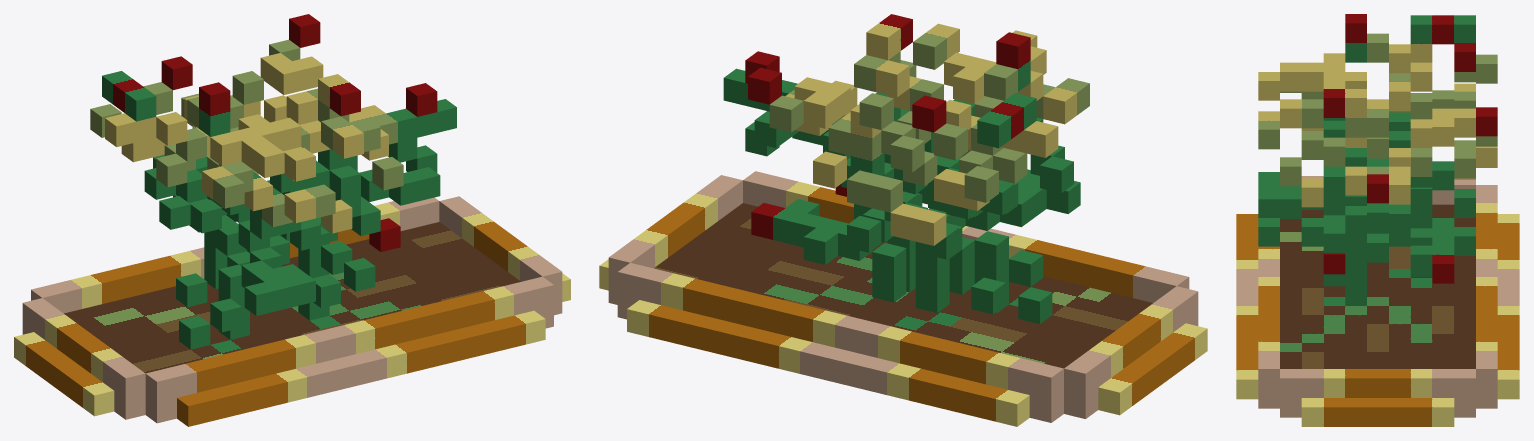
The model's file is 1 Flowerbed.fbx.
The picture shows the model from 3 angles, left to right: view 1: azimuth 30°, elevation 25°; view 2: azimuth 150°, elevation 25°; view 3: azimuth 270°, elevation 25°; orthographic projection. The views are drawn at different scales.
Visible parts, largest first — view 1: Untitled; view 2: Untitled; view 3: Untitled.
Part boxes in pixels (left/top/right/bottom): Untitled: left=14, top=14, right=570, bottom=426; Untitled: left=599, top=14, right=1207, bottom=426; Untitled: left=1236, top=14, right=1519, bottom=426.
Bounding box in the file's own units: 240 × 130 × 130.
1 material, 1 textured.
